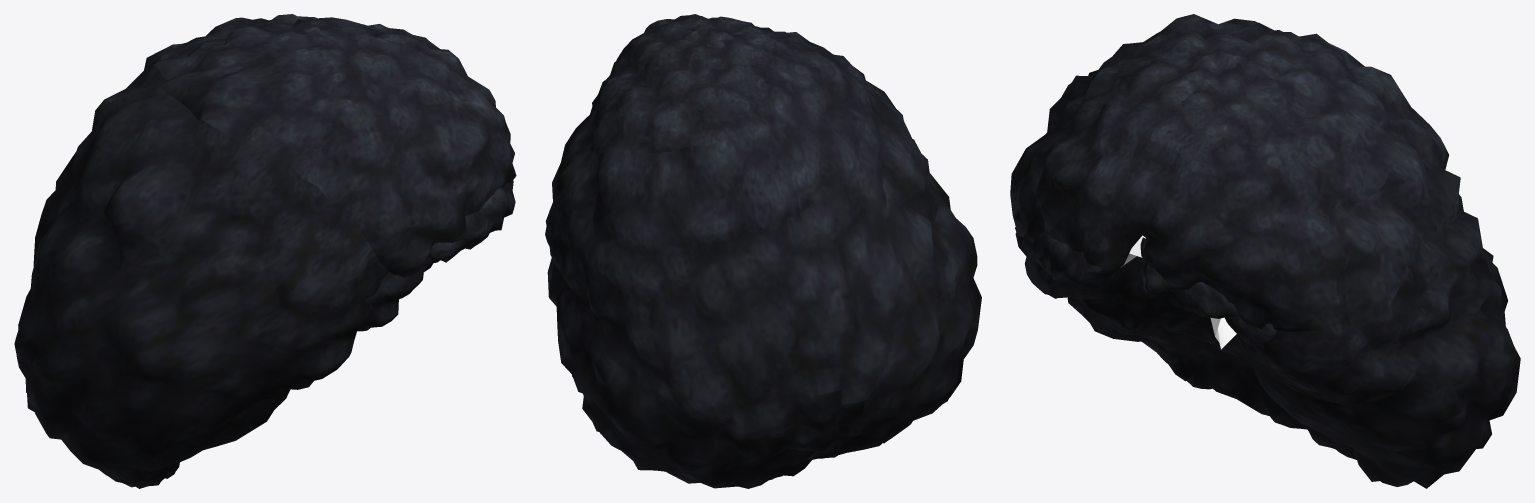
File: Crespo_1.glb
The picture shows the model from 3 angles, left to right: view 1: azimuth 30°, elevation 25°; view 2: azimuth 150°, elevation 25°; view 3: azimuth 270°, elevation 25°; orthographic projection. The views are drawn at different scales.
Visible parts, largest first — view 1: Faye_Fro_v1_mesh; view 2: Faye_Fro_v1_mesh; view 3: Faye_Fro_v1_mesh.
Part boxes in pixels (x1,y1,x2,y2): Faye_Fro_v1_mesh: (14,14,516,488); Faye_Fro_v1_mesh: (545,14,981,488); Faye_Fro_v1_mesh: (1010,14,1520,488).
Size of the model in its own units: 0.0462 by 0.0447 by 0.0451.
Materials: 1 (1 with a texture image).
